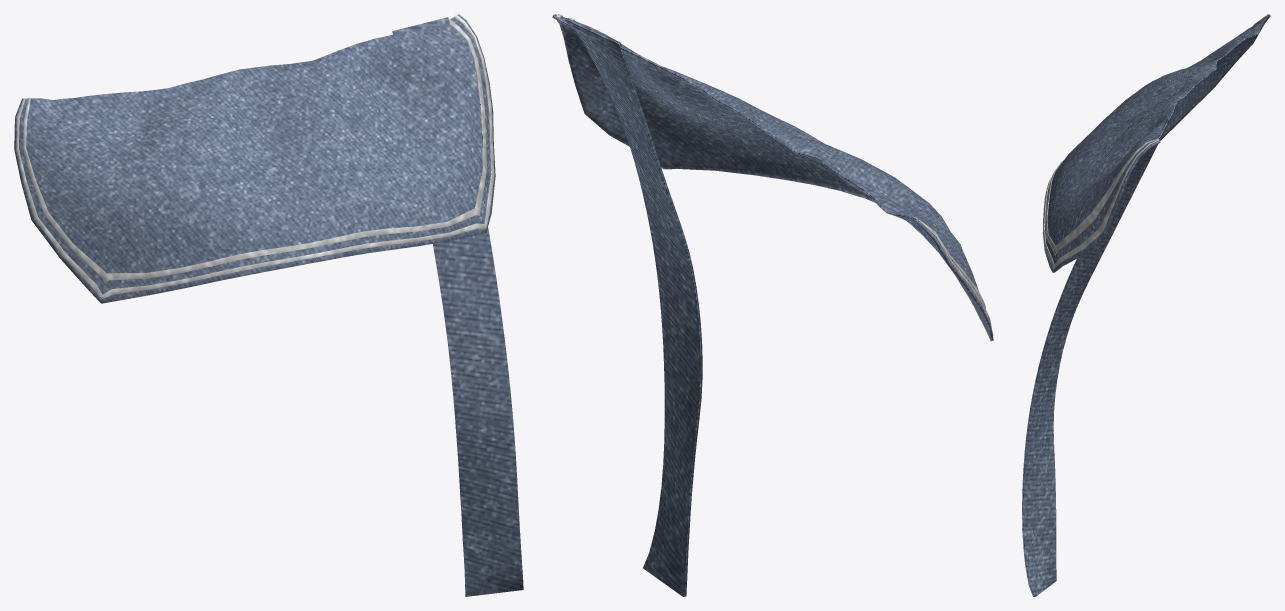
Rendered from Jac_Pocket_LEFT_V2.glb.
3 views of the same model, side by side, from view 1: azimuth 30°, elevation 25°; view 2: azimuth 150°, elevation 25°; view 3: azimuth 270°, elevation 25° (orthographic). The views are drawn at different scales.
Visible parts, largest first — view 1: Jac2_Pocket_LEFT_V2.001, Jac_Pocket_Left.001, Jac_Rope_Pocket_LEFT_V2.001; view 2: Jac2_Pocket_LEFT_V2.001, Jac_Pocket_Left.001, Jac_Rope_Pocket_LEFT_V2.001; view 3: Jac2_Pocket_LEFT_V2.001, Jac_Pocket_Left.001, Jac_Rope_Pocket_LEFT_V2.001.
Boxes of the visible parts, x1,y1,x2,y2 form: Jac2_Pocket_LEFT_V2.001: (14,14,495,303); Jac_Pocket_Left.001: (392,17,523,596); Jac_Rope_Pocket_LEFT_V2.001: (16,14,494,299); Jac2_Pocket_LEFT_V2.001: (552,14,993,341); Jac_Pocket_Left.001: (564,18,702,596); Jac_Rope_Pocket_LEFT_V2.001: (556,14,993,335); Jac2_Pocket_LEFT_V2.001: (1042,14,1270,272); Jac_Pocket_Left.001: (1022,119,1169,596); Jac_Rope_Pocket_LEFT_V2.001: (1043,14,1268,269).
Bounding box in the file's own units: 0.2098 × 0.2599 × 0.1265.
Materials: 3 (3 with a texture image).
